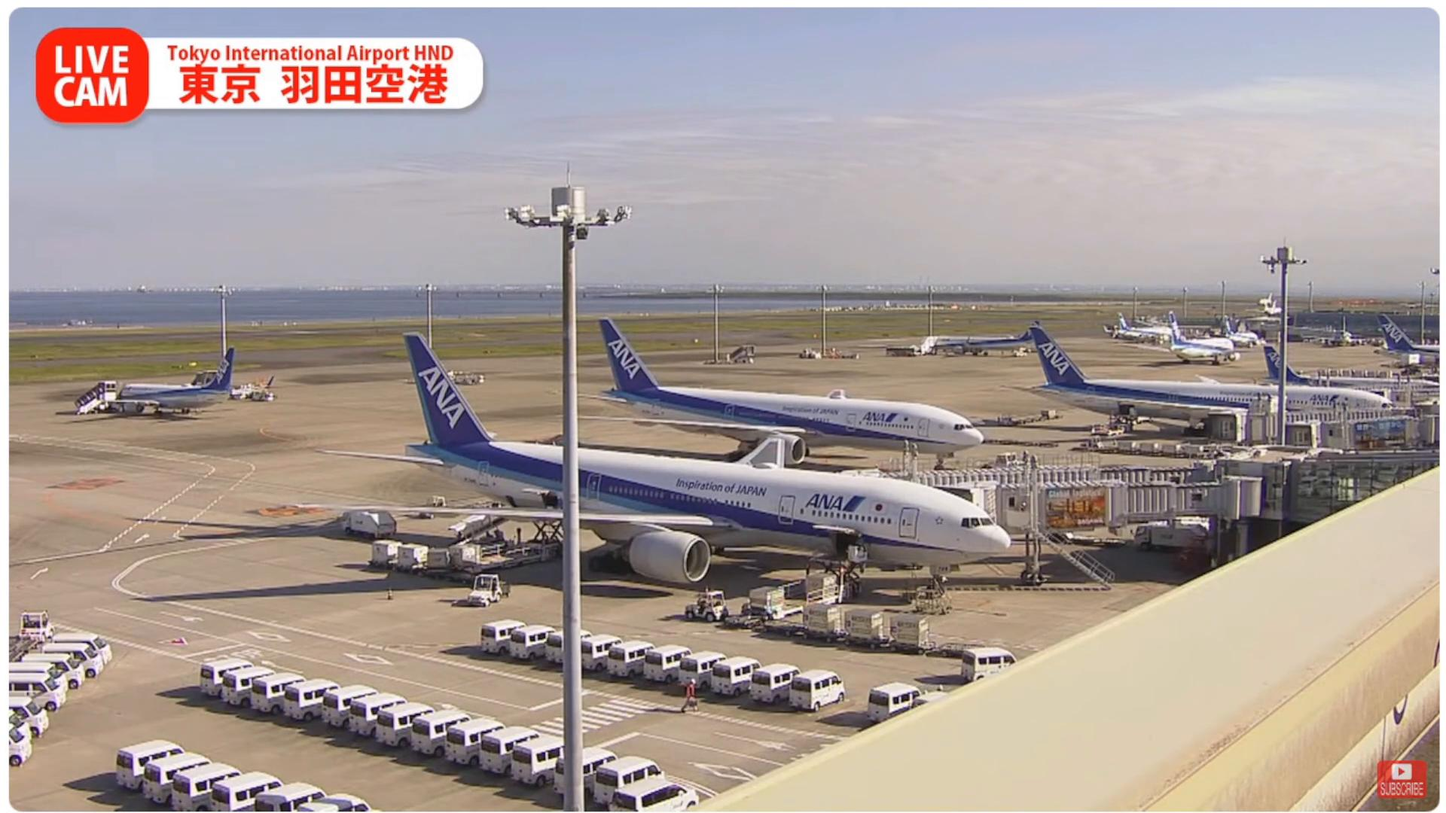Aerobridge: (956, 480, 1243, 535), (885, 461, 1213, 481)
Airplane: (290, 330, 1014, 584)
Baggage truck: (339, 503, 399, 541)
Dolly: (719, 610, 987, 666), (357, 548, 472, 584)
JCPL: (739, 534, 867, 620), (510, 493, 570, 569)
Skyloader: (442, 515, 528, 574)
Tractor: (681, 586, 737, 626), (454, 575, 511, 609)
ULD: (886, 611, 932, 648), (841, 605, 884, 644), (801, 603, 845, 638), (803, 571, 840, 603), (750, 585, 783, 613), (450, 541, 480, 571), (397, 542, 429, 569), (372, 537, 401, 564), (426, 549, 452, 573)
Window: (1270, 448, 1442, 536)
